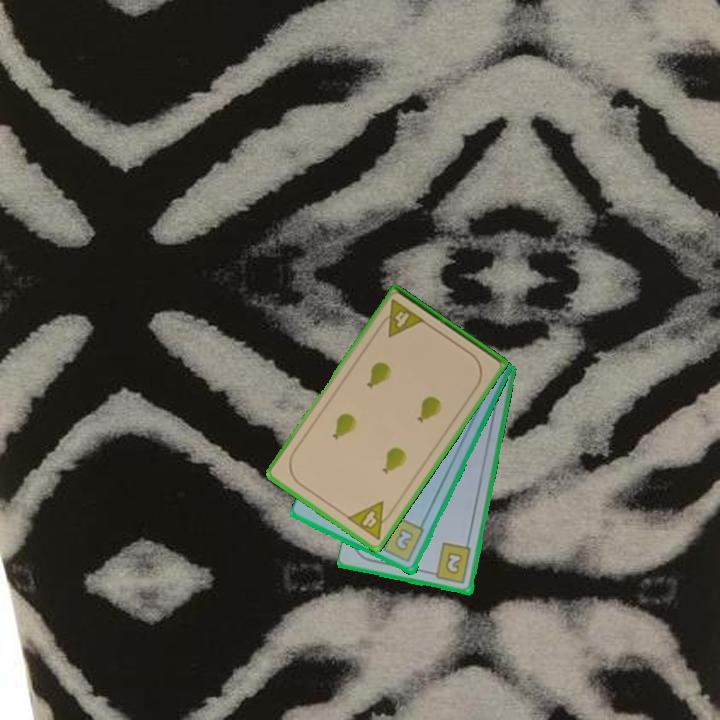2b: (374, 515, 427, 565), (427, 540, 474, 587)
4p: (343, 498, 397, 543), (375, 296, 427, 340)
